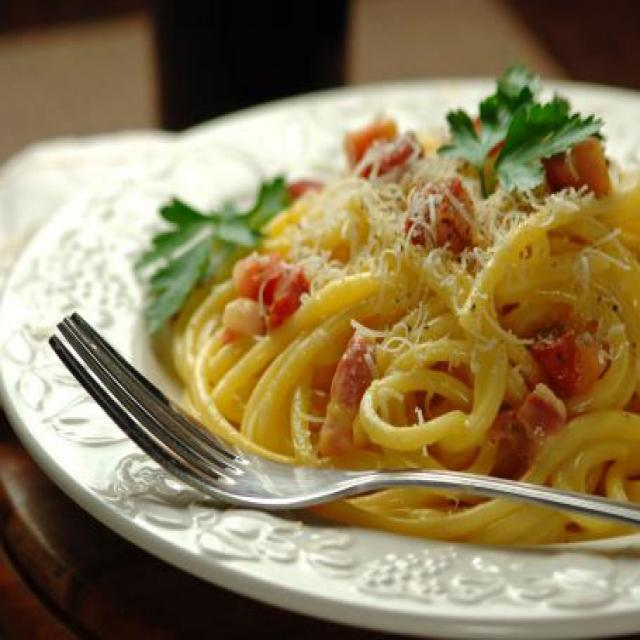Pasta with carbonara sauce: (116, 47, 640, 587)
